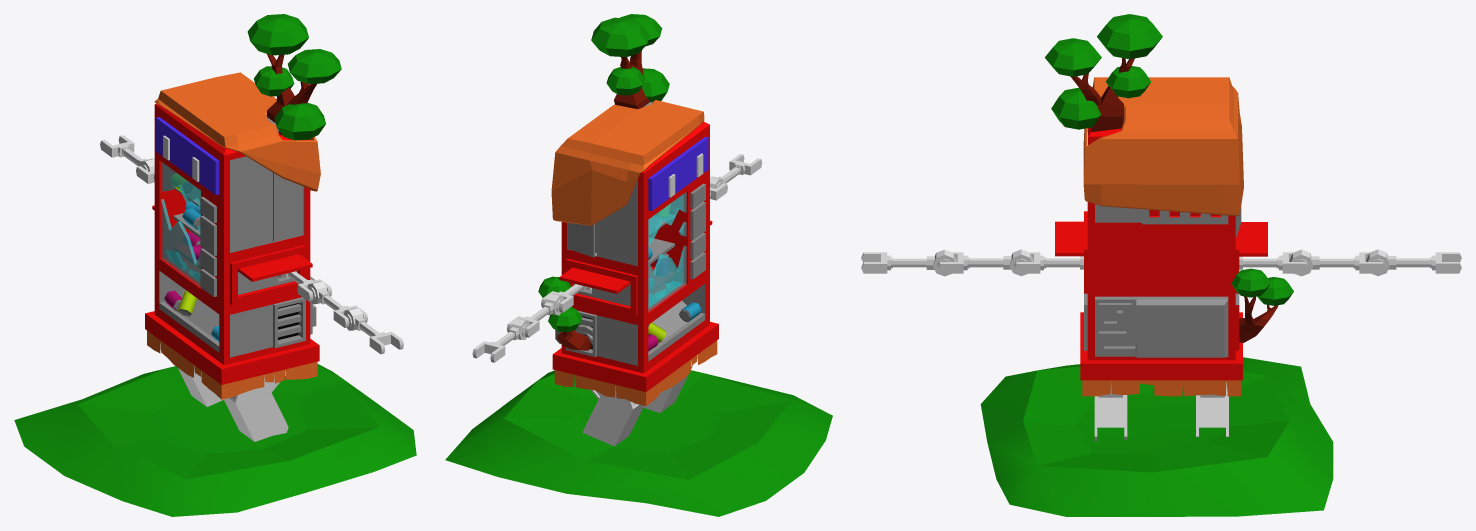
The model's file is vendingmachine.fbx.
The picture shows the model from 3 angles, left to right: view 1: azimuth 30°, elevation 25°; view 2: azimuth 150°, elevation 25°; view 3: azimuth 270°, elevation 25°; orthographic projection. The views are drawn at different scales.
Visible parts, largest first — view 1: Plane001, MainBox, Box003, Glass, LegR_003, uppercloth, Sphere002, Sphere003, Sphere001, side_mid_door, Box004, Sphere004 (+5 smaller); view 2: Plane001, MainBox, Box003, Glass, uppercloth, LegR_1, Sphere002, side_mid_door002, Sphere004, Box004, Sphere003, Sphere005 (+6 smaller); view 3: Plane001, MainBox, Box003, uppercloth, Sphere002, Sphere001, Box004, Sphere003, LegR_003, LegR_1, side_mid_door, Sphere004 (+8 smaller).
Boxes of the visible parts, box(x1,y1,x2,y2) form: Plane001: box(14, 364, 416, 516); MainBox: box(145, 104, 319, 384); Box003: box(154, 72, 320, 191); Glass: box(161, 161, 200, 286); LegR_003: box(224, 380, 288, 441); uppercloth: box(147, 330, 317, 399); Sphere002: box(247, 14, 308, 55); Sphere003: box(274, 102, 325, 140); Sphere001: box(288, 49, 341, 84); side_mid_door: box(238, 254, 312, 281); Box004: box(267, 54, 316, 135); Sphere004: box(254, 66, 294, 96); Plane001: box(445, 370, 832, 516); MainBox: box(552, 102, 718, 391); Box003: box(551, 100, 704, 225); Glass: box(648, 192, 686, 311); uppercloth: box(554, 340, 717, 405); LegR_1: box(582, 386, 643, 446); Sphere002: box(591, 17, 649, 57); side_mid_door002: box(559, 267, 630, 293); Sphere004: box(606, 66, 645, 95); Box004: box(614, 50, 650, 109); Sphere003: box(641, 68, 669, 102); Sphere005: box(548, 307, 582, 332); Plane001: box(980, 357, 1333, 516); MainBox: box(1080, 121, 1242, 380); Box003: box(1083, 77, 1243, 216); uppercloth: box(1082, 380, 1240, 396); Sphere002: box(1097, 14, 1162, 59); Sphere001: box(1045, 38, 1101, 76); Box004: box(1070, 58, 1134, 131); Sphere003: box(1051, 87, 1100, 129); LegR_003: box(1094, 395, 1127, 441); LegR_1: box(1196, 382, 1228, 436); side_mid_door: box(1055, 221, 1083, 256); Sphere004: box(1106, 66, 1150, 98).
Size of the model in its own units: 103 by 132 by 163.
